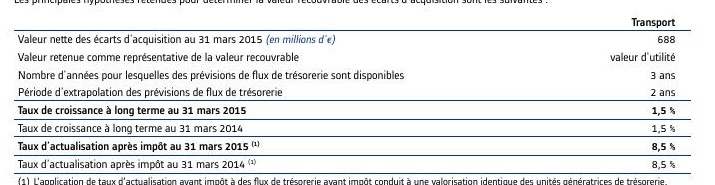table: (0, 0, 715, 185)
